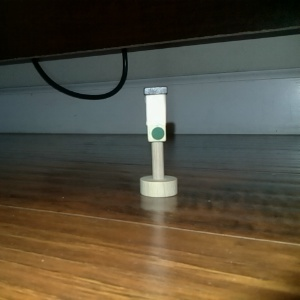traffic light green: (137, 85, 180, 200)
